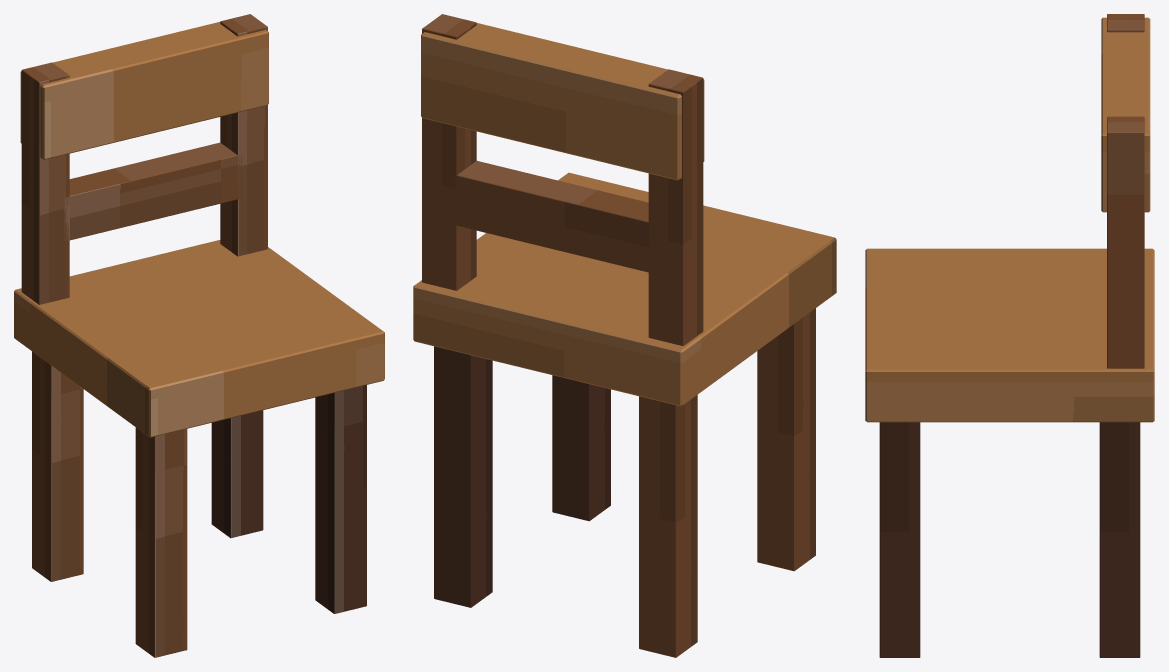
File: wooden_chair_oak.glb
3 views of the same model, side by side, from view 1: azimuth 30°, elevation 25°; view 2: azimuth 150°, elevation 25°; view 3: azimuth 270°, elevation 25° (orthographic). The views are drawn at different scales.
Parts seen in each view (by area): view 1: ChairSeat, BackTop, ChairLeg_1, ChairLeg_2, ChairLeg_3, BackRail, BackPost_L, BackPost_R, ChairLeg_4; view 2: ChairSeat, BackTop, ChairLeg_3, ChairLeg_4, ChairLeg_1, BackRail, BackPost_L, BackPost_R, ChairLeg_2; view 3: ChairSeat, ChairLeg_2, ChairLeg_4, BackPost_R, BackTop, BackPost_L.
Part boxes in pixels (left/top/right/bottom): ChairSeat: left=14, top=240, right=384, bottom=437; BackTop: left=20, top=22, right=268, bottom=159; ChairLeg_1: left=135, top=427, right=187, bottom=657; ChairLeg_2: left=315, top=385, right=366, bottom=613; ChairLeg_3: left=32, top=351, right=83, bottom=581; BackRail: left=64, top=142, right=242, bottom=240; BackPost_L: left=21, top=62, right=69, bottom=304; BackPost_R: left=220, top=14, right=267, bottom=256; ChairLeg_4: left=211, top=410, right=263, bottom=538; ChairSeat: left=413, top=172, right=836, bottom=406; BackTop: left=421, top=23, right=704, bottom=180; ChairLeg_3: left=639, top=395, right=697, bottom=657; ChairLeg_4: left=434, top=346, right=492, bottom=607; ChairLeg_1: left=757, top=308, right=815, bottom=571; BackRail: left=450, top=161, right=654, bottom=272; BackPost_L: left=648, top=69, right=703, bottom=345; BackPost_R: left=422, top=14, right=476, bottom=290; ChairLeg_2: left=552, top=375, right=610, bottom=521; ChairSeat: left=865, top=248, right=1154, bottom=422; ChairLeg_2: left=879, top=422, right=920, bottom=657; ChairLeg_4: left=1099, top=422, right=1140, bottom=657; BackPost_R: left=1107, top=116, right=1144, bottom=368; BackTop: left=1101, top=17, right=1150, bottom=212; BackPost_L: left=1107, top=14, right=1144, bottom=32.
Size of the model in its own units: 0.5 by 1.01 by 0.5.
Materials: 1 (1 with a texture image).
